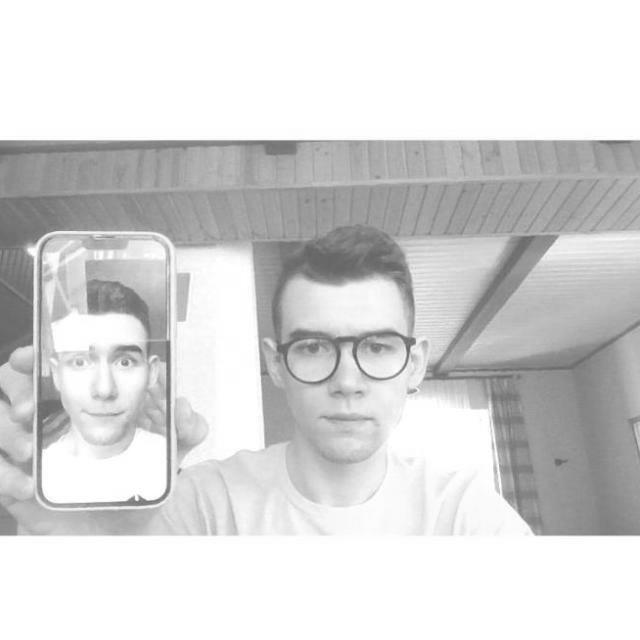fake: (30, 228, 180, 508)
real: (285, 276, 411, 460)
